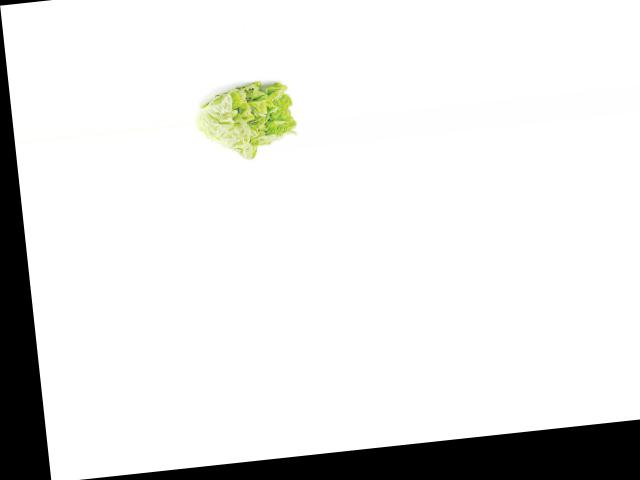lettuce: (192, 72, 299, 163)
